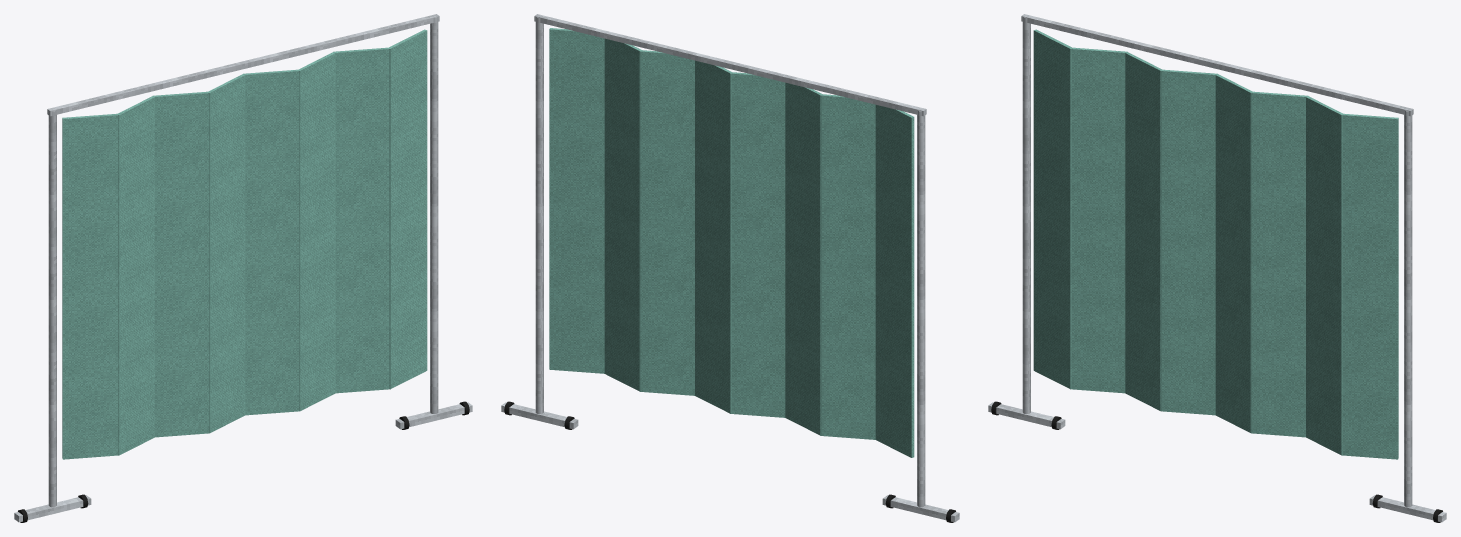
Rendered from tfg_privacy_curtain.glb.
The picture shows the model from 3 angles, left to right: view 1: azimuth 30°, elevation 25°; view 2: azimuth 150°, elevation 25°; view 3: azimuth 330°, elevation 25°; orthographic projection.
Parts seen in each view (by area): view 1: tfg_privacy_curtain; view 2: tfg_privacy_curtain; view 3: tfg_privacy_curtain.
Boxes of the visible parts, x1,y1,x2,y2 form: tfg_privacy_curtain: (14, 14, 472, 522); tfg_privacy_curtain: (501, 14, 959, 522); tfg_privacy_curtain: (988, 14, 1446, 522).
Size of the model in its own units: 2.26 by 1.93 by 0.1298.
3 materials, 3 textured.
